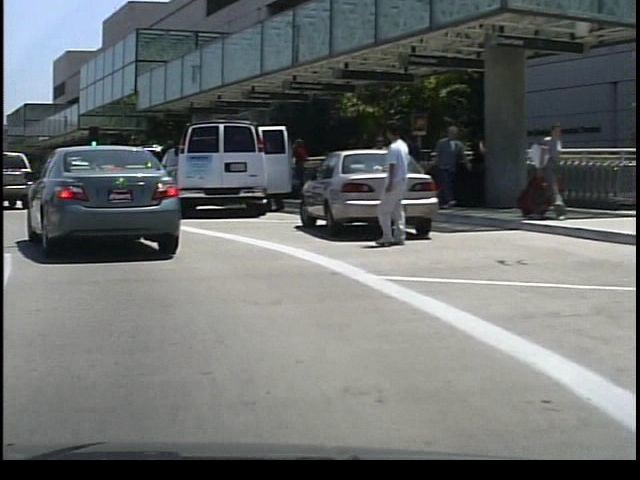person: (367, 118, 413, 248), (523, 117, 563, 222), (428, 122, 465, 210), (286, 134, 308, 199)
